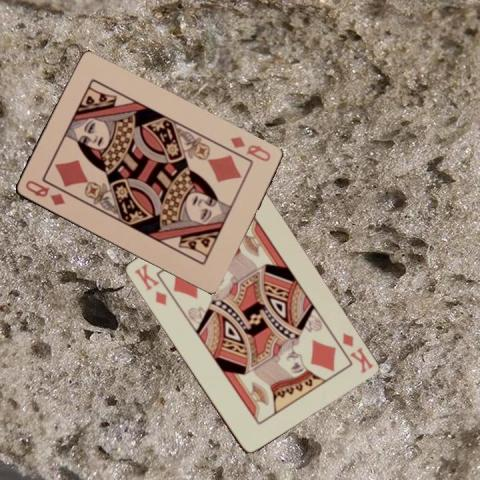Kd: (131, 260, 168, 306), (338, 330, 374, 375)
Qd: (21, 177, 66, 207), (227, 134, 272, 164)
